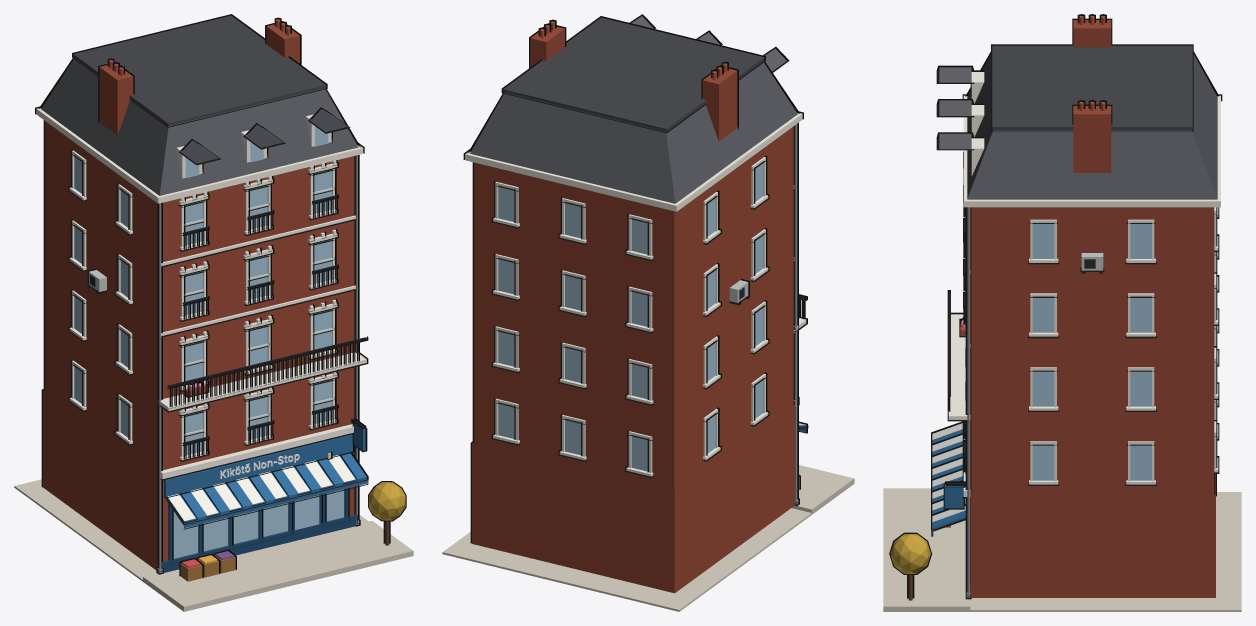
The model's file is Dukkan_kikoto_nonstop.fbx.
3 views of the same model, side by side, from view 1: azimuth 30°, elevation 25°; view 2: azimuth 150°, elevation 25°; view 3: azimuth 270°, elevation 25° (orthographic). The views are drawn at different scales.
Parts seen in each view (by area): view 1: Dukkan_kikoto_nonstop; view 2: Dukkan_kikoto_nonstop; view 3: Dukkan_kikoto_nonstop.
Boxes of the visible parts, x1,y1,x2,y2 form: Dukkan_kikoto_nonstop: (14,14,413,611); Dukkan_kikoto_nonstop: (442,14,854,611); Dukkan_kikoto_nonstop: (883,14,1241,611).
Size of the model in its own units: 10.48 by 20.06 by 13.17.
